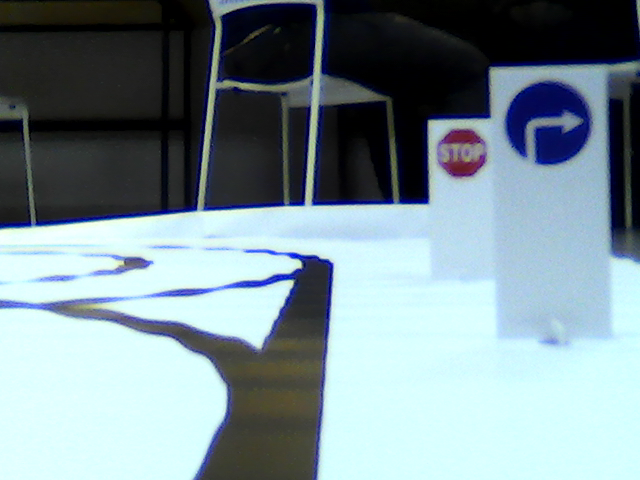Right: (503, 79, 592, 167)
Stop: (434, 127, 489, 181)
